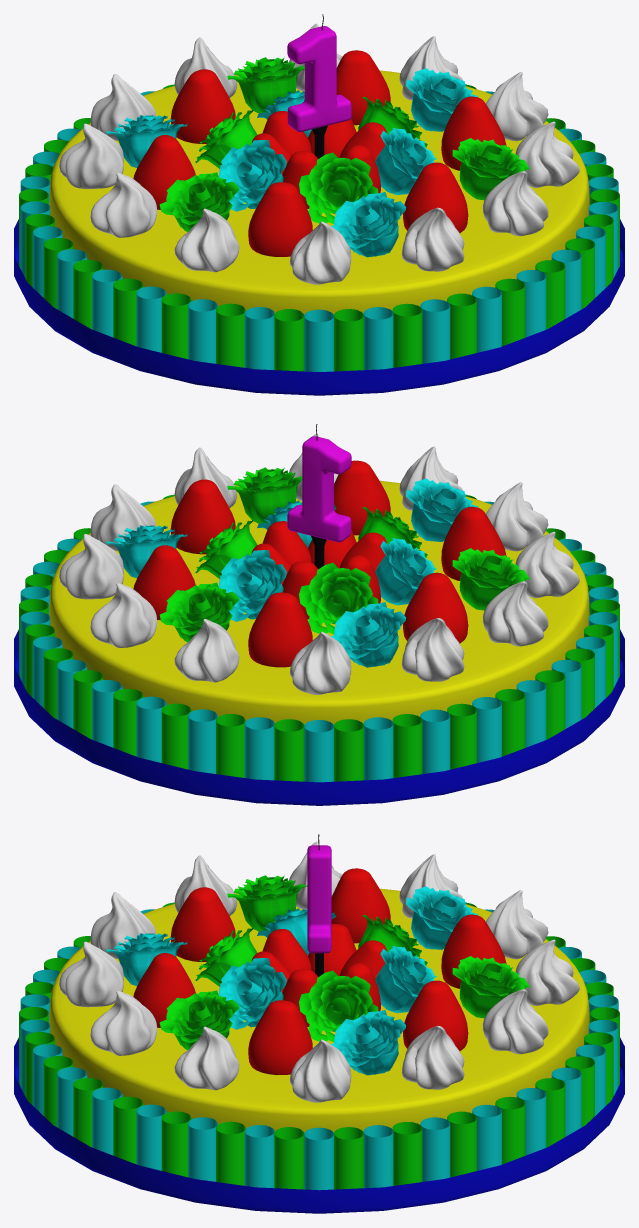
The picture shows the model from 3 angles, top to bottom: view 1: azimuth 30°, elevation 25°; view 2: azimuth 150°, elevation 25°; view 3: azimuth 270°, elevation 25°; orthographic projection.
Visible parts, largest first — view 1: typeMesh1; view 2: typeMesh1; view 3: typeMesh1.
Part boxes in pixels (x1=…): typeMesh1: x1=14, y1=14, x2=624, y2=395; typeMesh1: x1=14, y1=424, x2=624, y2=805; typeMesh1: x1=14, y1=834, x2=624, y2=1213.
Bounding box in the file's own units: 69.03 × 31.45 × 68.65.
